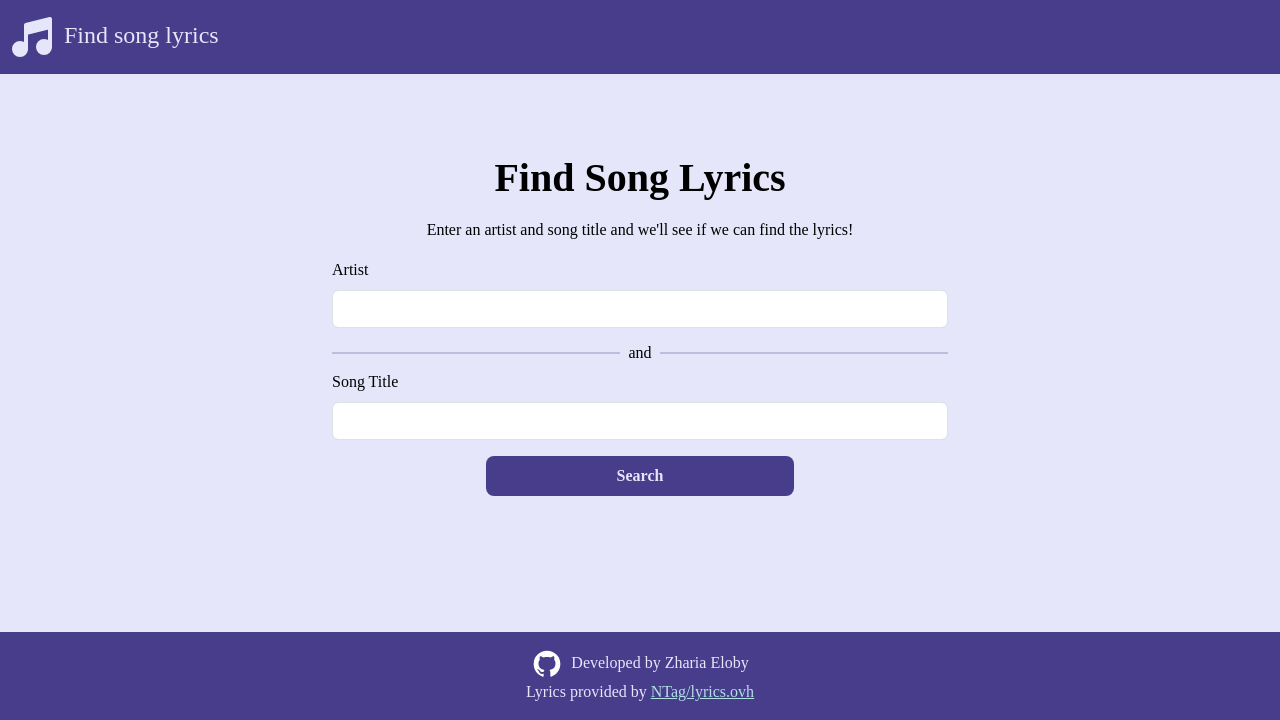
Test: Home Page › When user searches for song lyrics › an error message is displayed › when submitting with empty song title input field
Expected: the element with test id "home-page" is shown, [332,154,948,496]
Type "Etta James" into the field with test id "artist-input-field" at (640, 309), box [332,290,948,328]
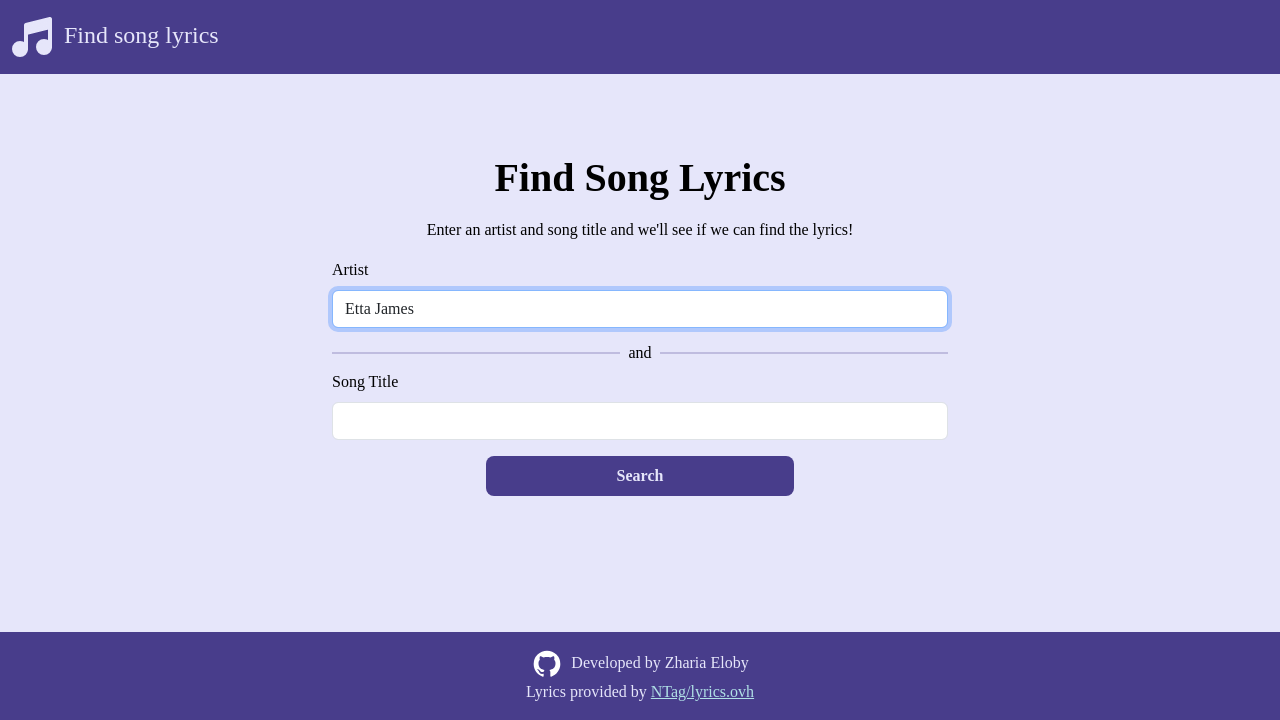
Click the button with test id "submit-button" at (640, 476), box [486,456,794,496]
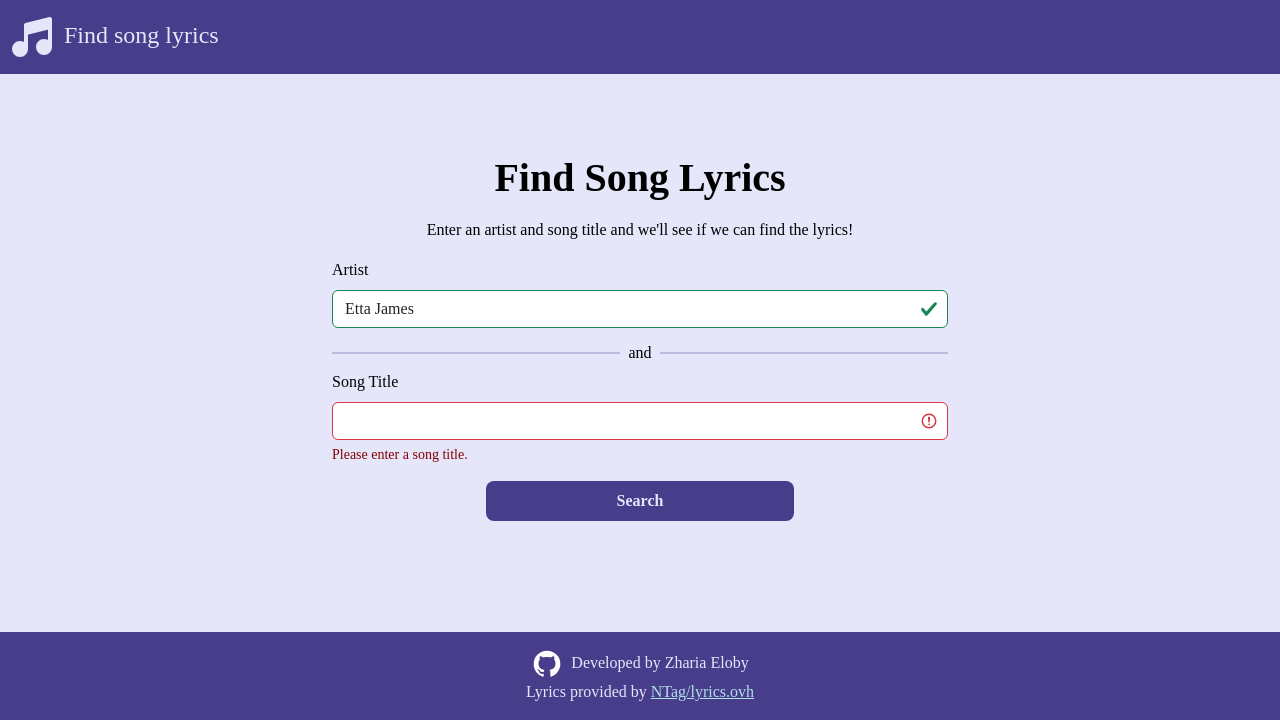
Now the text "Please enter a song title." is shown, box [332,447,468,462]
